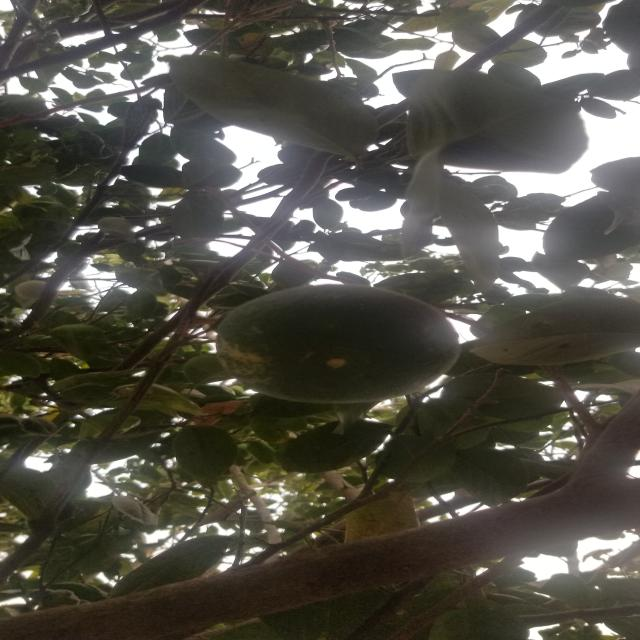Unripe: (216, 286, 464, 400)
